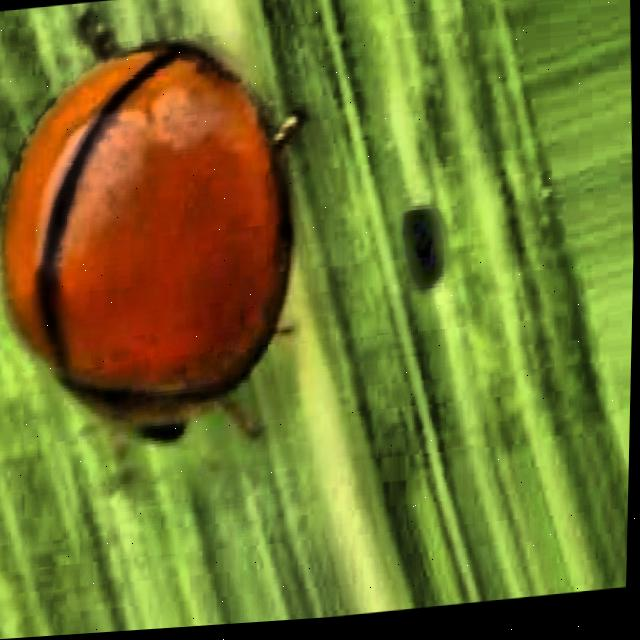Ladybug: (0, 0, 390, 522)
